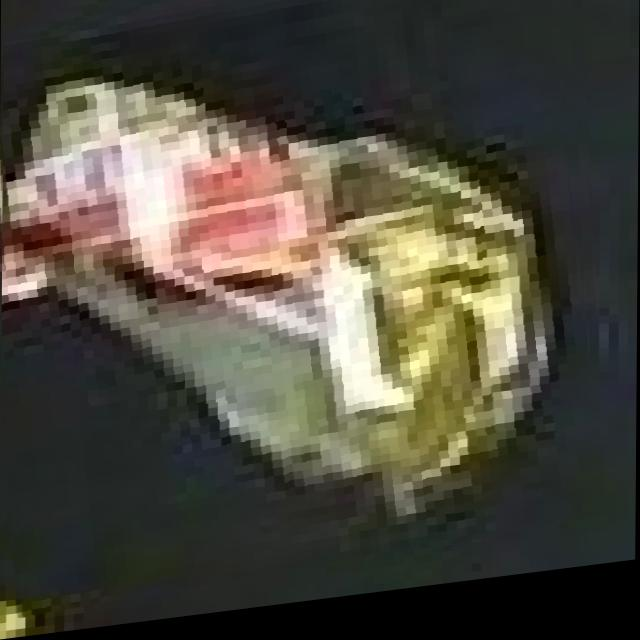litter: (1, 28, 595, 563)
